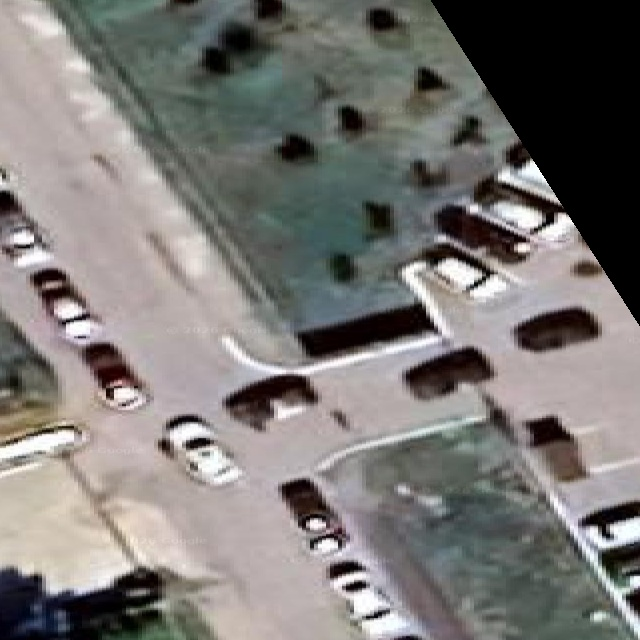car: (409, 243, 510, 300), (435, 203, 531, 261), (160, 415, 240, 484), (31, 267, 100, 344), (280, 477, 347, 555), (0, 166, 51, 267), (223, 373, 316, 428), (83, 343, 148, 407), (0, 423, 87, 470), (495, 141, 559, 203), (487, 199, 575, 243), (0, 200, 51, 267), (347, 587, 409, 636), (580, 500, 639, 551), (280, 479, 335, 532), (600, 547, 639, 591), (328, 560, 369, 597), (308, 526, 347, 555), (0, 164, 11, 192)
